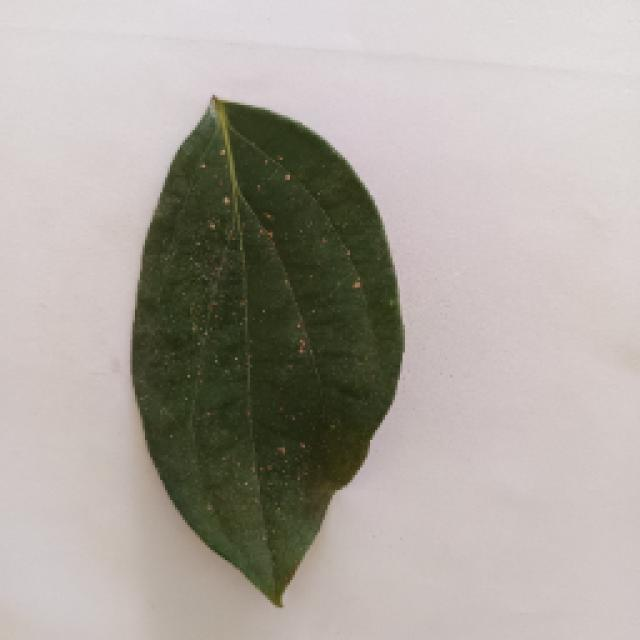pollu-disease: (123, 95, 415, 603)
